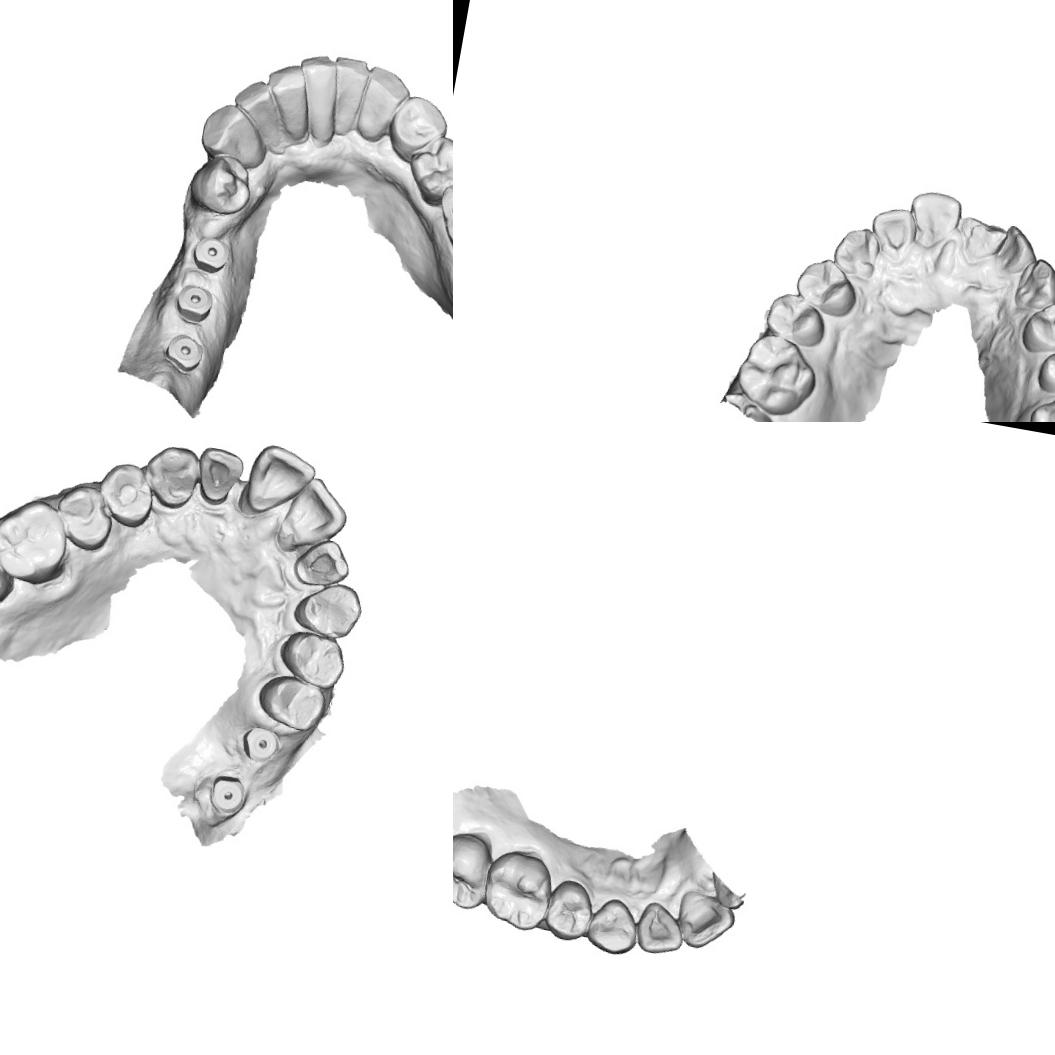canine: (192, 97, 276, 174), (289, 573, 366, 642), (352, 62, 413, 144), (138, 440, 202, 512), (1009, 253, 1055, 319), (829, 223, 882, 280)
implant: (160, 327, 207, 375), (172, 281, 218, 327), (188, 232, 236, 276), (236, 723, 282, 765), (206, 772, 248, 816)
incisor: (274, 472, 353, 560), (241, 439, 319, 520), (671, 886, 739, 954), (258, 57, 317, 124), (904, 186, 965, 248), (290, 533, 353, 592), (191, 442, 247, 507), (290, 47, 344, 114), (632, 897, 688, 958), (227, 75, 287, 130), (326, 50, 374, 114), (992, 221, 1042, 280), (866, 202, 920, 255), (953, 213, 1009, 264)
molar: (730, 329, 822, 422), (0, 492, 75, 589), (478, 846, 558, 935), (453, 826, 497, 913), (428, 157, 453, 271), (0, 519, 23, 614)
premolar: (182, 146, 260, 222), (379, 90, 453, 168), (253, 669, 330, 735), (50, 480, 118, 554), (274, 626, 350, 692), (790, 252, 862, 321), (92, 458, 158, 530), (401, 128, 453, 211), (761, 289, 830, 349), (583, 894, 643, 958), (540, 876, 596, 944), (1017, 292, 1055, 362), (1033, 336, 1055, 401)
